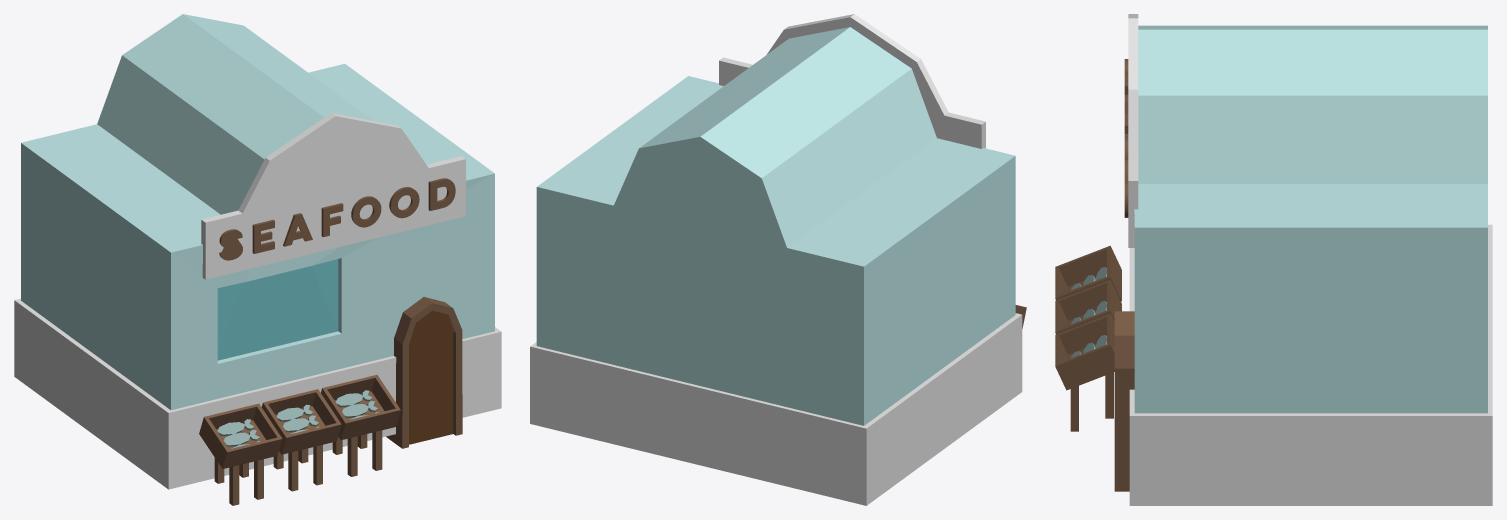
The model's file is 3D Seafood.fbx.
3 views of the same model, side by side, from view 1: azimuth 30°, elevation 25°; view 2: azimuth 150°, elevation 25°; view 3: azimuth 270°, elevation 25° (orthographic). The views are drawn at different scales.
Parts seen in each view (by area): view 1: pCube34, pCube35, pCylinder45, pCylinder50, pCube36 (×3), typeMesh1; view 2: pCube34, pCube35, pCylinder45; view 3: pCube34, pCube35, pCube36 (×3), pCylinder50, pCylinder45, typeMesh1.
Boxes of the visible parts, <box> form: pCube34: <box>21,14,494,410</box>; pCube35: <box>14,298,501,489</box>; pCylinder45: <box>201,113,465,279</box>; pCylinder50: <box>386,297,462,448</box>; pCube36 (×3): <box>199,375,400,468</box>; typeMesh1: <box>219,178,455,260</box>; pCube34: <box>536,27,1015,425</box>; pCube35: <box>530,313,1022,505</box>; pCylinder45: <box>719,14,985,148</box>; pCube34: <box>1134,25,1487,413</box>; pCube35: <box>1129,224,1492,505</box>; pCube36 (×3): <box>1055,245,1121,390</box>; pCylinder50: <box>1114,311,1134,491</box>; pCylinder45: <box>1128,14,1138,247</box>; typeMesh1: <box>1124,59,1128,217</box>.
Size of the model in its own units: 15.72 by 15.47 by 15.19.
